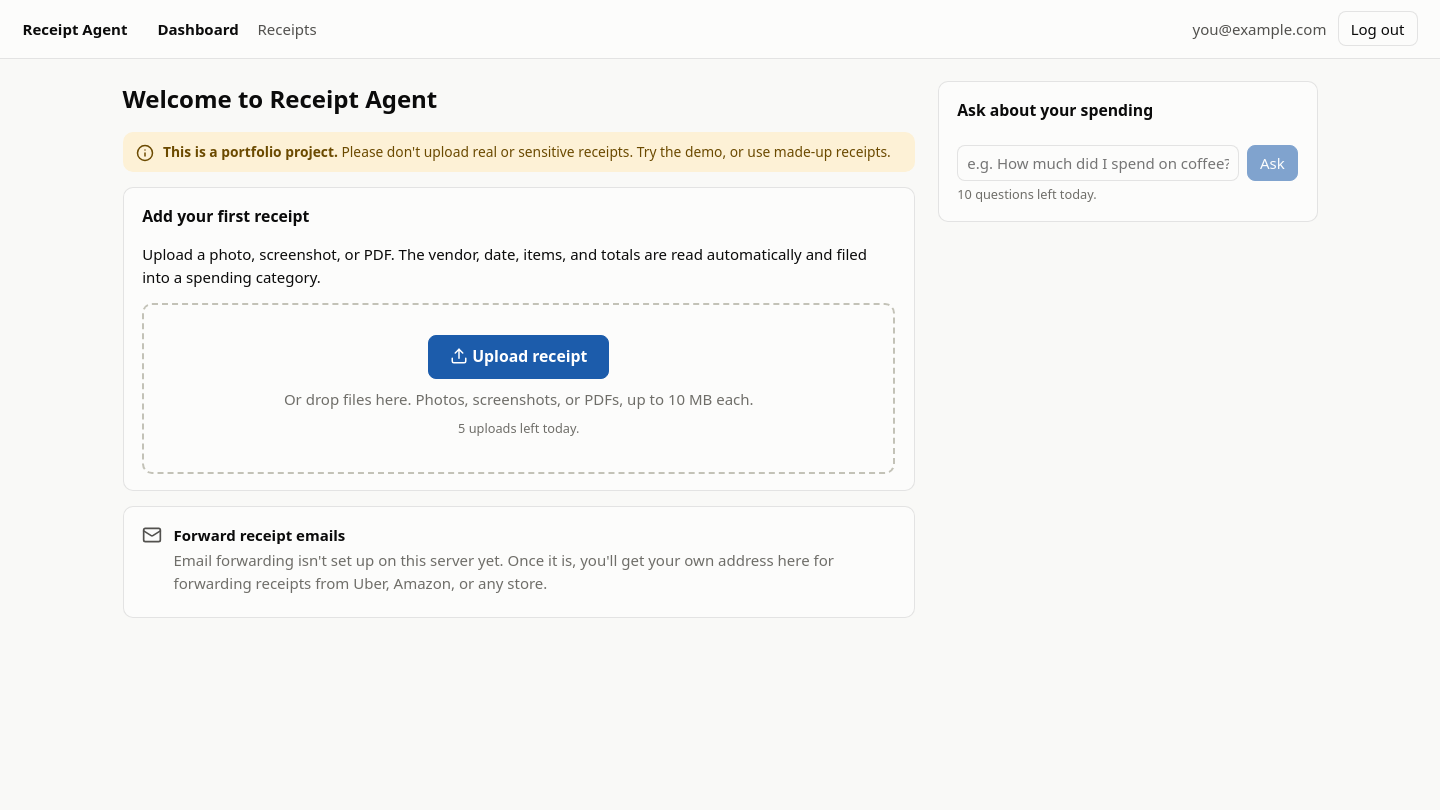
Scenario: logging out returns to the login page
Click the button "Log out". click: (1378, 29)
box: [1338, 11, 1418, 46]
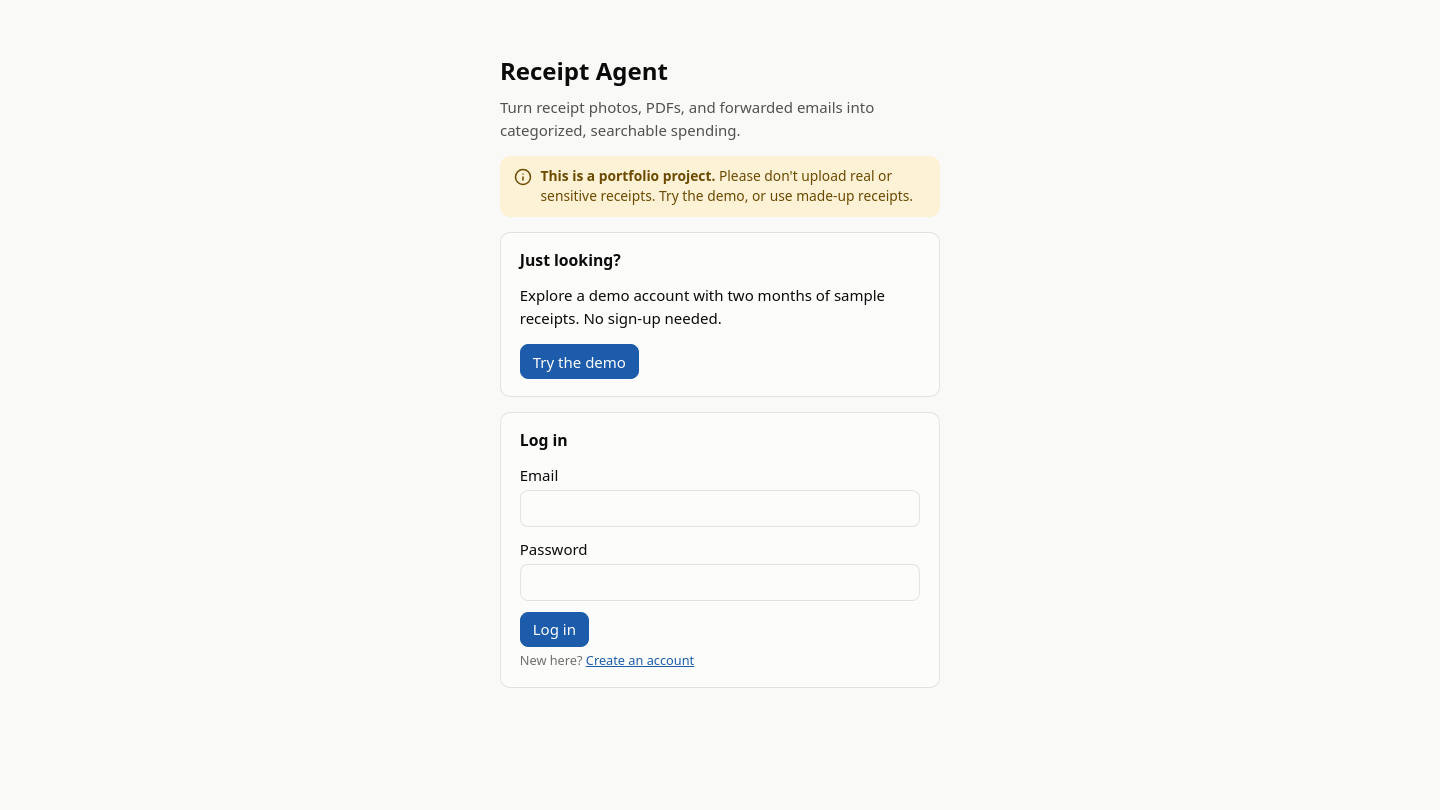
Now the button "Try the demo" is shown, box [520, 344, 639, 379]
